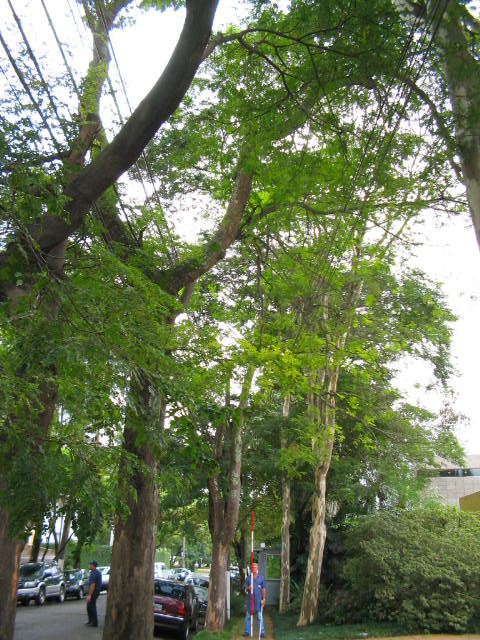stem: (196, 524, 238, 632)
stick: (245, 510, 261, 638)
tree: (169, 242, 290, 633)
